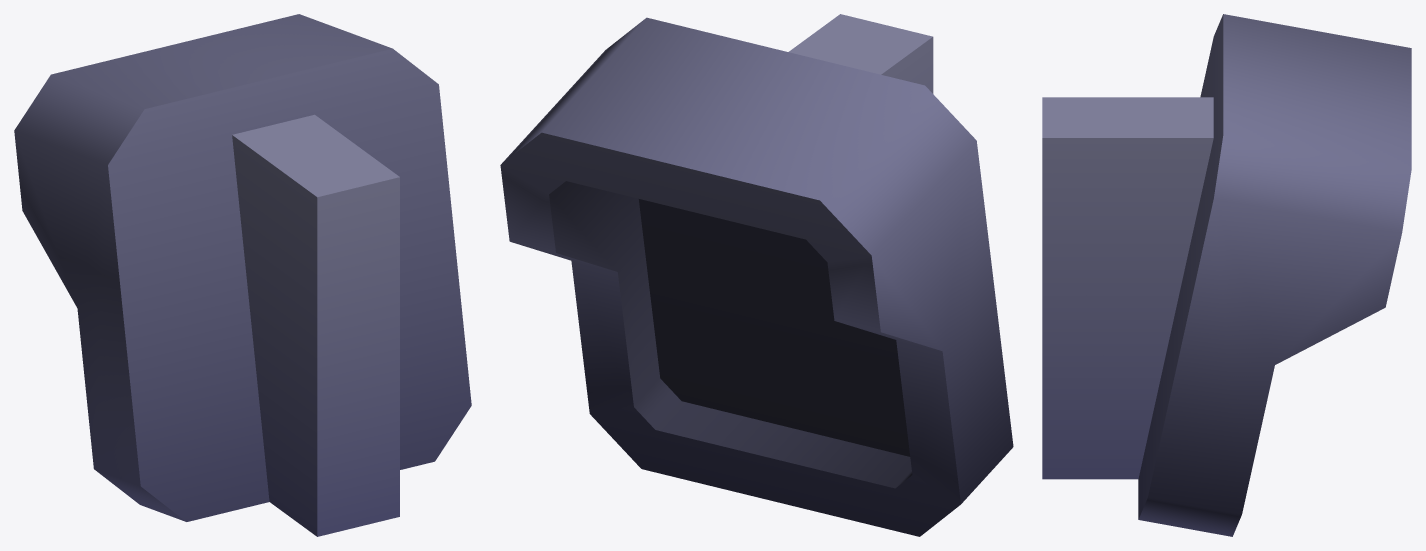
The model's file is screen-hanging-small.glb.
The picture shows the model from 3 angles, left to right: view 1: azimuth 30°, elevation 25°; view 2: azimuth 150°, elevation 25°; view 3: azimuth 270°, elevation 25°; orthographic projection. The views are drawn at different scales.
Visible parts, largest first — view 1: screen-hanging-small; view 2: screen-hanging-small; view 3: screen-hanging-small.
Part boxes in pixels (bbox=[...]): screen-hanging-small: bbox=[14, 14, 471, 536]; screen-hanging-small: bbox=[500, 14, 1013, 536]; screen-hanging-small: bbox=[1042, 14, 1411, 536].
Bounding box in the file's own units: 0.6 × 0.6913 × 0.5766.
